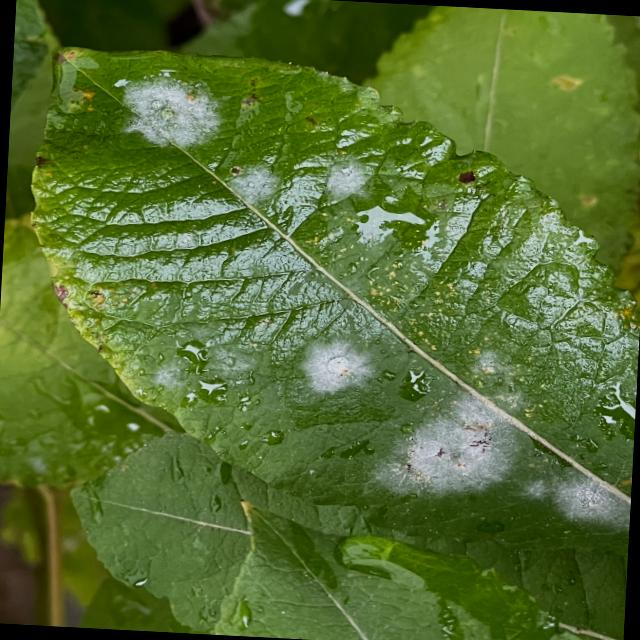powdery_mildew: (34, 49, 640, 543)
